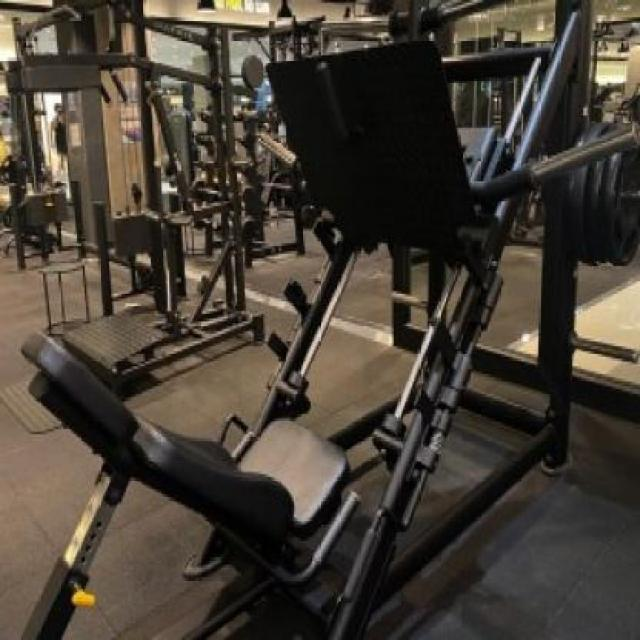leg press: (6, 7, 623, 640)
